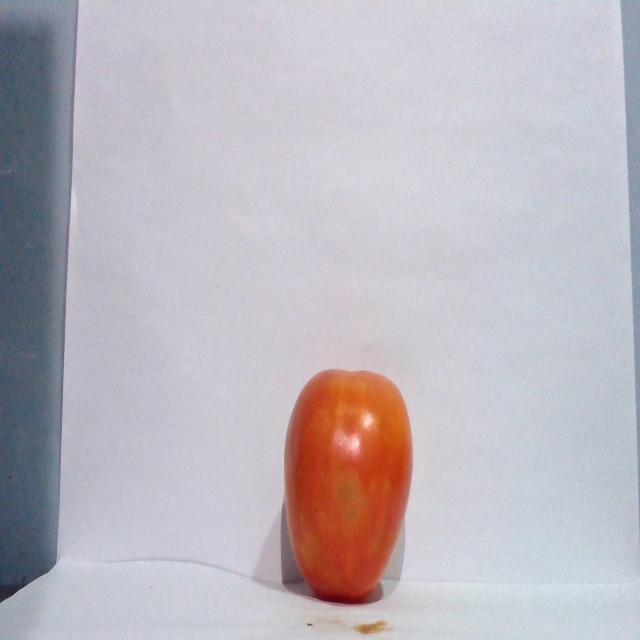Red: (281, 366, 413, 603)
